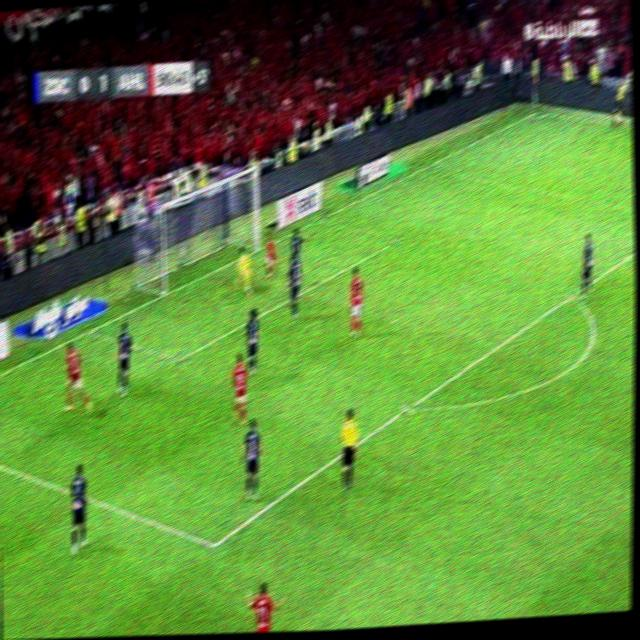bigarea_bottom_inner: (203, 529, 223, 560)
bigarea_top_outter: (418, 161, 430, 173)
bottom_arc_area_intersection: (399, 397, 415, 417)
corner: (529, 103, 542, 114)
smallarea_bottom_inner: (170, 348, 186, 370)
smallarea_bottom_outter: (78, 322, 103, 341)
smallarea_top_inner: (390, 231, 402, 246)
smallarea_top_outter: (310, 212, 330, 229)
top_arc_area_intersection: (565, 286, 579, 304)
